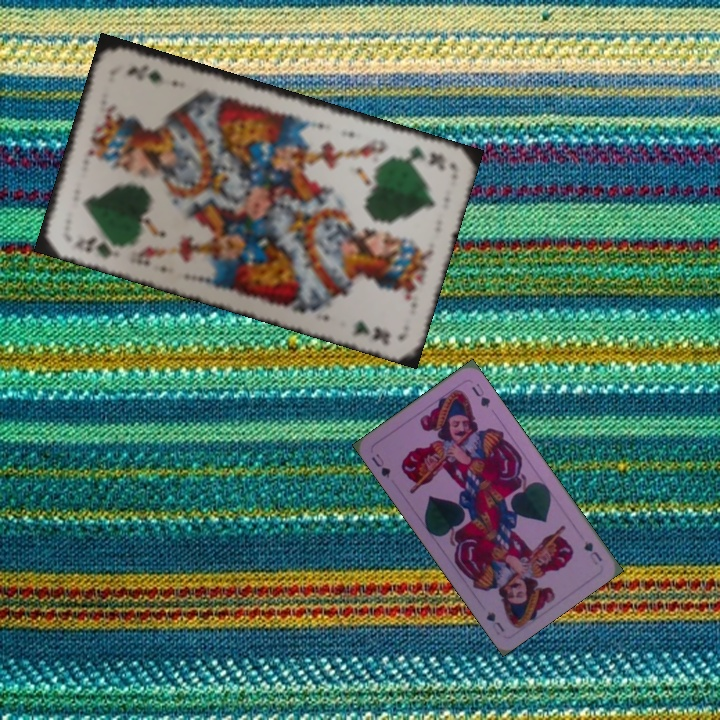GK: (393, 142, 448, 173), (71, 233, 123, 262)
GU: (367, 449, 393, 480), (580, 536, 605, 568)
